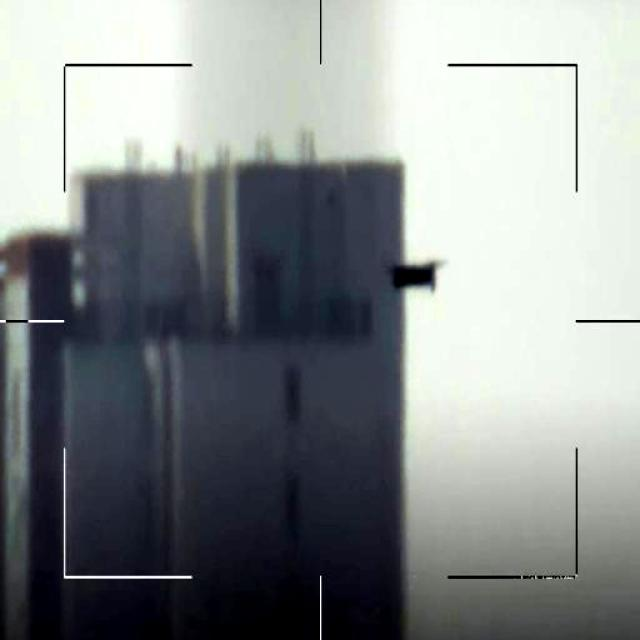bird: (390, 254, 441, 294)
